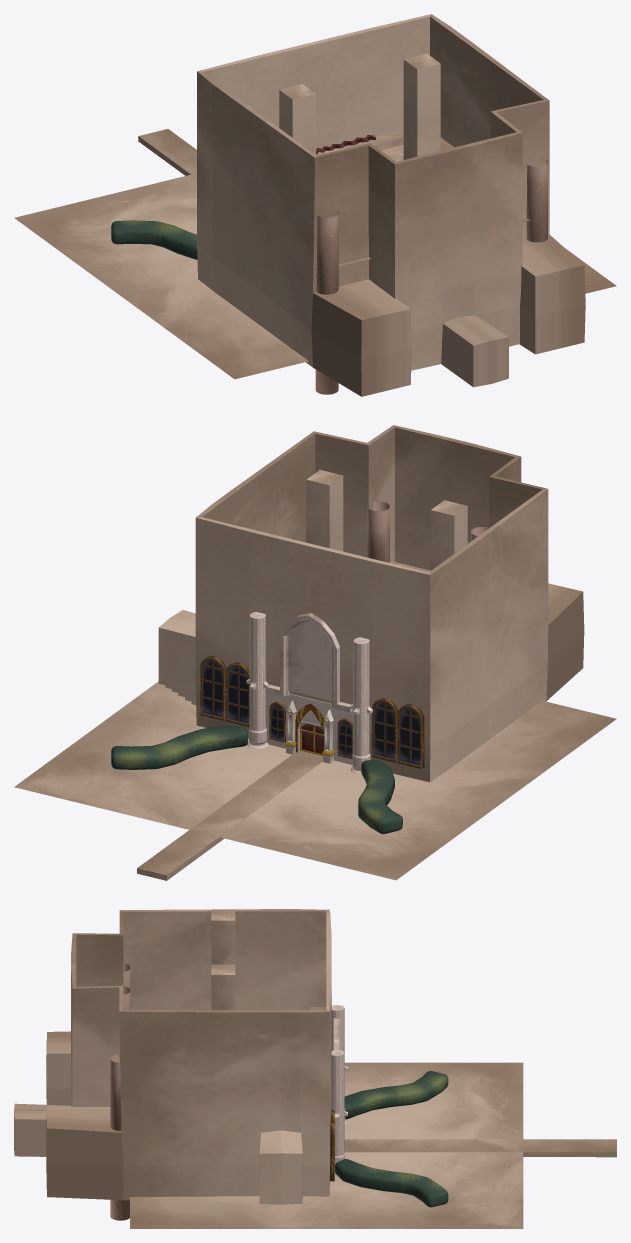
File: Hotel_Secta_FullTextured1.fbx
3 renders of one model, top to bottom at view 1: azimuth 30°, elevation 25°; view 2: azimuth 150°, elevation 25°; view 3: azimuth 270°, elevation 25°, orthographic. The views are drawn at different scales.
Parts seen in each view (by area): view 1: Plane, Plane.005, Cylinder.001, Cube.033, Cube.025, Cube.034, Cube.028; view 2: Plane, Plane.005, Cube.025, Cube.014, ventana.004, ventana.005, Cube.033, pilar.001, pilar, Cube.034, pared, Cylinder (+2 smaller); view 3: Plane, Plane.005, Cube.025, Cylinder.001, Cube.034, pilar.001, Cube.033, pilar.
Part boxes in pixels (x1,y1,x2,y2): Plane: (138,14,585,396); Plane.005: (14,174,616,379); Cylinder.001: (315,160,547,394); Cube.033: (403,54,440,159); Cube.025: (111,220,197,259); Cube.034: (279,84,315,154); Cube.028: (316,129,403,155); Plane: (137,425,584,880); Plane.005: (14,681,616,880); Cube.025: (111,725,402,834); Cube.014: (267,613,352,712); ventana.004: (200,656,424,768); ventana.005: (225,662,397,762); Cube.033: (306,470,343,551); pilar.001: (247,612,268,748); pilar: (350,637,370,774); Cube.034: (431,500,467,570); pared: (266,688,353,764); Cylinder: (367,501,488,562); Plane: (14,909,616,1204); Plane.005: (130,1062,523,1228); Cube.025: (335,1071,448,1207); Cylinder.001: (110,963,130,1220); Cube.034: (211,910,235,964); pilar.001: (331,1050,345,1164); Cube.033: (211,964,235,1010); pilar: (331,1005,346,1124).
Bounding box in the file's own units: 4168 × 2593 × 6389.
